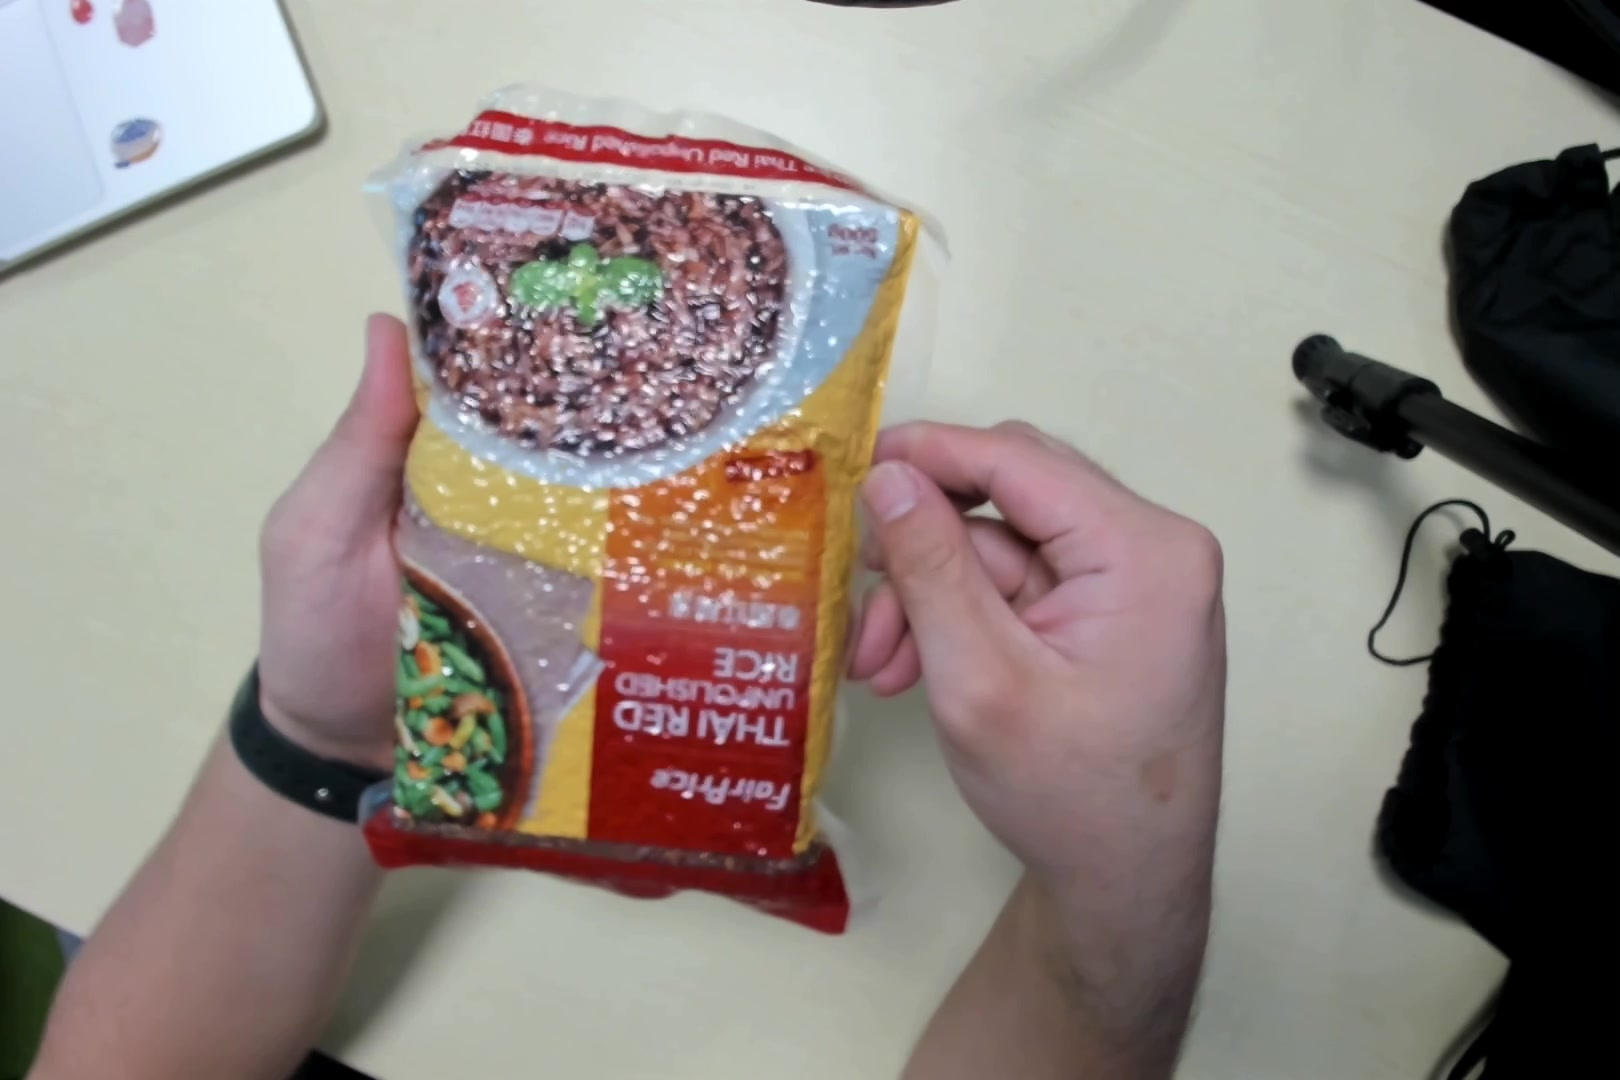Rice(BrownOthers)_500-599g_NonHalal_Healthy: (372, 104, 923, 918)
